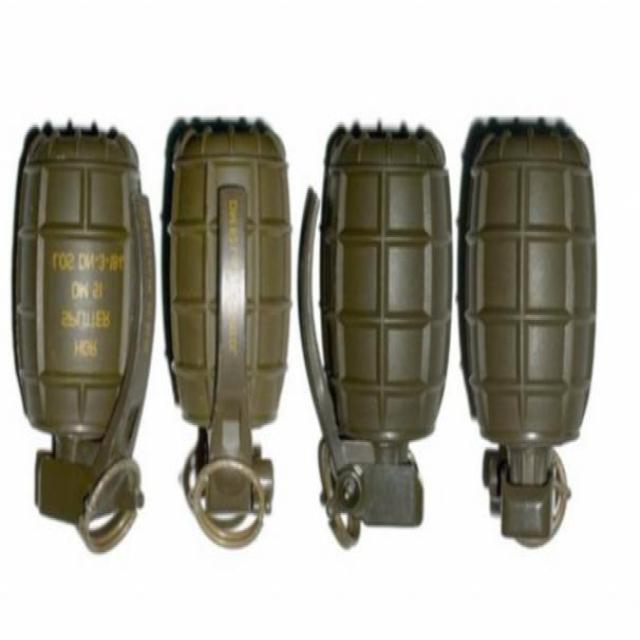grenade: (299, 116, 457, 545), (13, 118, 157, 556), (461, 114, 600, 548), (166, 111, 298, 550)
